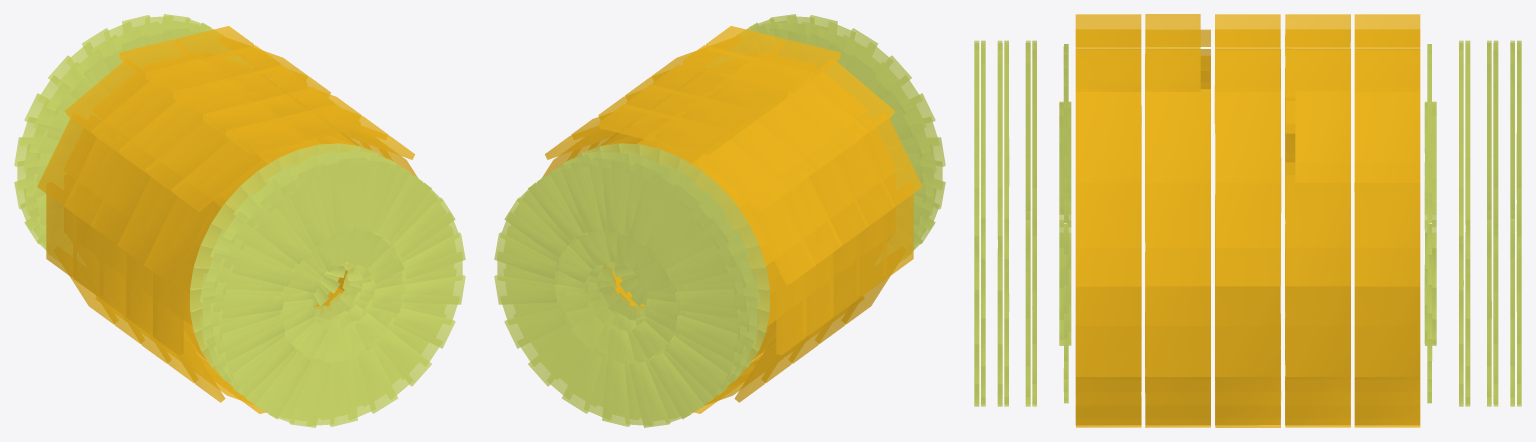
3 renders of one model, left to right at view 1: azimuth 30°, elevation 25°; view 2: azimuth 150°, elevation 25°; view 3: azimuth 270°, elevation 25°, orthographic. The views are drawn at different scales.
Parts seen in each view (by area): view 1: CSC3D_V1, DTs3D_V1; view 2: CSC3D_V1, DTs3D_V1; view 3: DTs3D_V1, CSC3D_V1.
Part boxes in pixels (x1,y1,x2,y2): CSC3D_V1: (14, 14, 465, 427); DTs3D_V1: (37, 26, 417, 413); CSC3D_V1: (494, 14, 945, 427); DTs3D_V1: (542, 26, 922, 413); DTs3D_V1: (1075, 14, 1420, 427); CSC3D_V1: (974, 40, 1521, 406).
Size of the model in its own units: 15.81 by 14.74 by 20.93.
